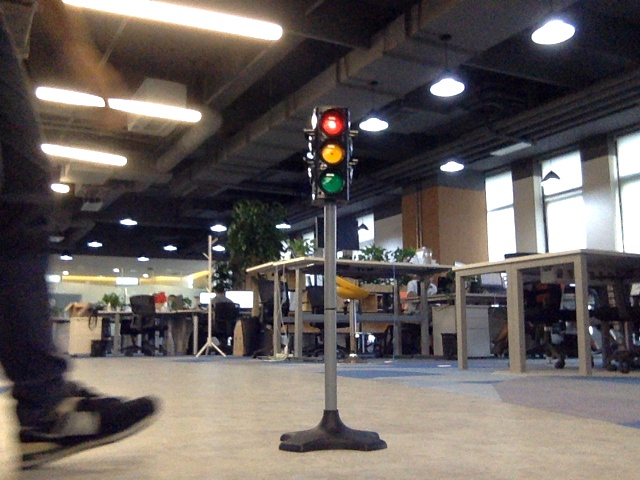red: (315, 113, 345, 194)
